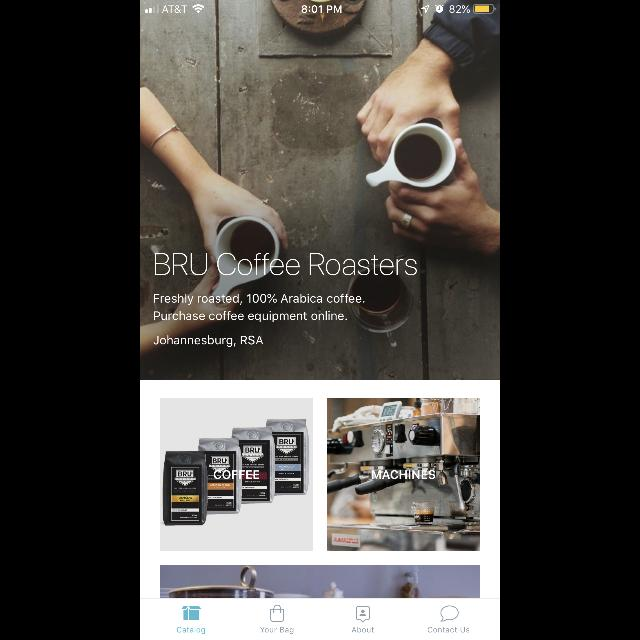icon: (441, 606, 459, 622), (270, 604, 284, 622), (356, 606, 370, 622)
image: (140, 14, 500, 380), (160, 398, 314, 552), (326, 398, 479, 552), (160, 566, 480, 598), (182, 606, 202, 620)
text: (155, 252, 417, 276), (153, 294, 364, 322), (153, 335, 263, 347), (372, 470, 436, 480), (214, 470, 260, 480), (428, 627, 470, 633), (260, 628, 294, 634), (177, 628, 205, 634), (352, 627, 374, 633)
uppertaskbar: (140, 0, 500, 14)
